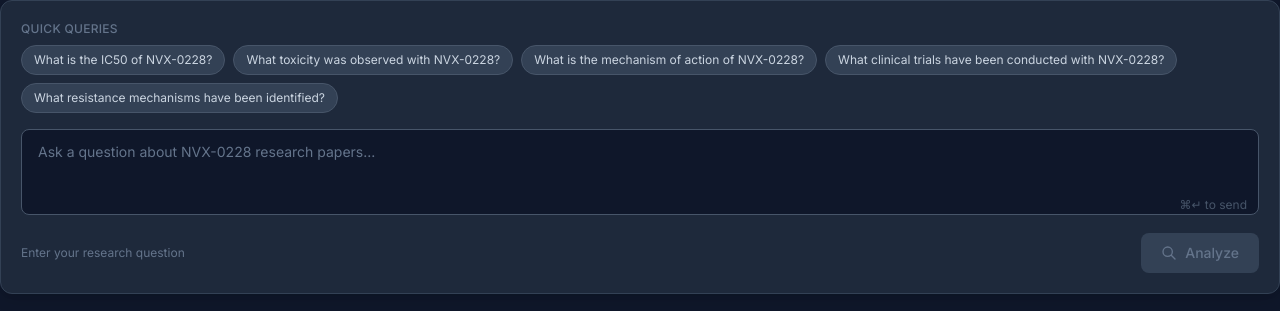
it: QueryBox › submit button enabled when input has text
Type "What is the IC50?" into the text box with test id "query-input" at x=640, y=172, box x1=21 y1=129 x2=1259 y2=215
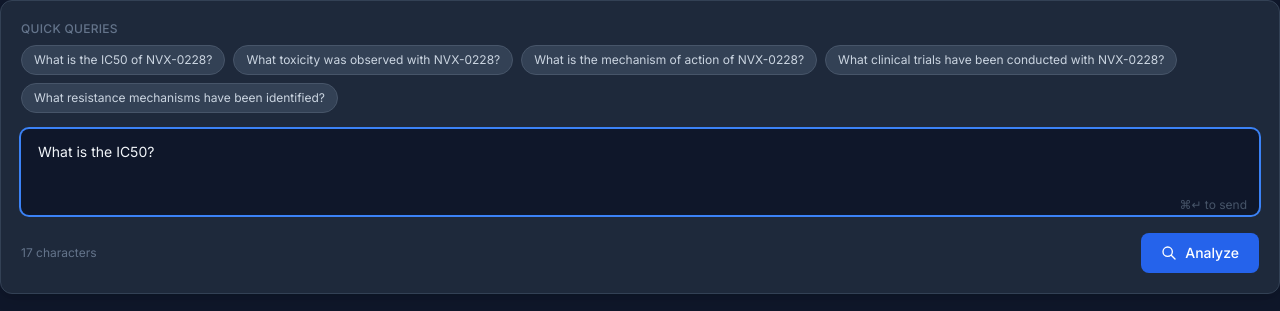
Expected: the button with test id "submit-button" is enabled, x1=1141 y1=233 x2=1259 y2=273
